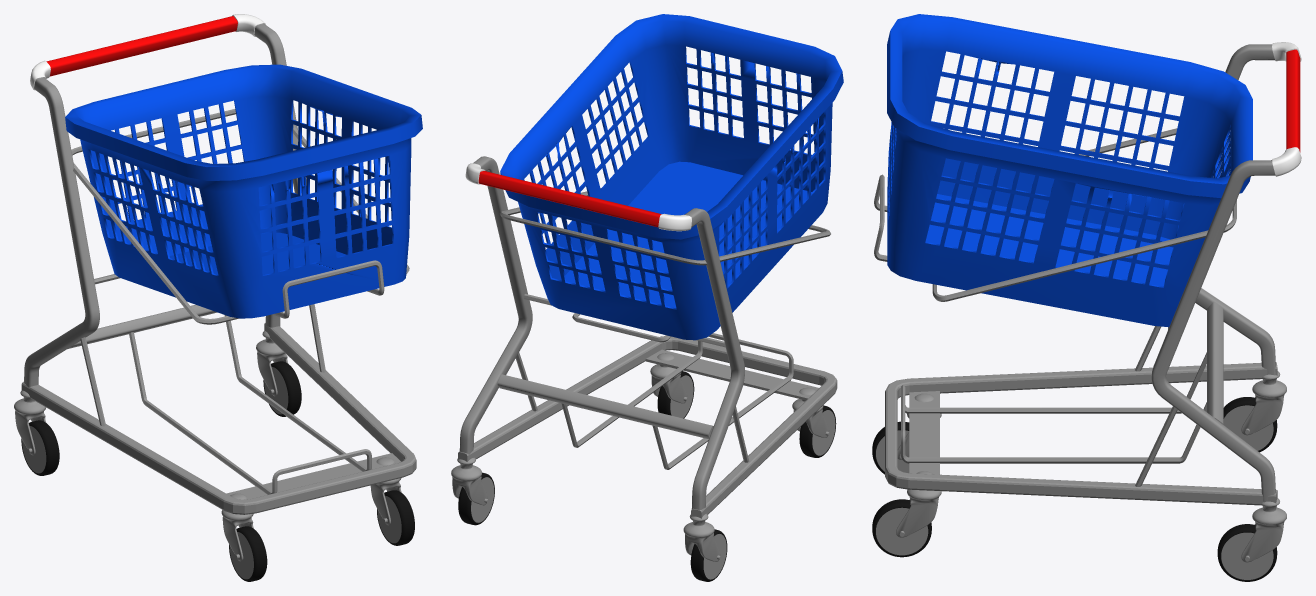
Rendered from Cart_Basket.FBX.
The picture shows the model from 3 angles, left to right: view 1: azimuth 30°, elevation 25°; view 2: azimuth 150°, elevation 25°; view 3: azimuth 270°, elevation 25°; orthographic projection. The views are drawn at different scales.
Visible parts, largest first — view 1: Basket, Iron, Wheel, Handle; view 2: Basket, Iron, Handle, Wheel, Iron1; view 3: Basket, Iron, Wheel, Handle.
Part boxes in pixels (x1,y1,x2,y2): Basket: (65, 64, 422, 318); Iron: (14, 14, 416, 579); Wheel: (21, 361, 414, 581); Handle: (46, 16, 237, 76); Basket: (500, 14, 843, 340); Iron: (451, 156, 837, 579); Handle: (478, 171, 661, 227); Wheel: (458, 371, 836, 581); Iron1: (658, 213, 691, 231); Basket: (887, 14, 1252, 327); Iron: (874, 44, 1301, 579); Wheel: (872, 397, 1277, 581); Handle: (1286, 49, 1300, 152).
Bounding box in the file's own units: 54.74 × 81.28 × 70.06.
